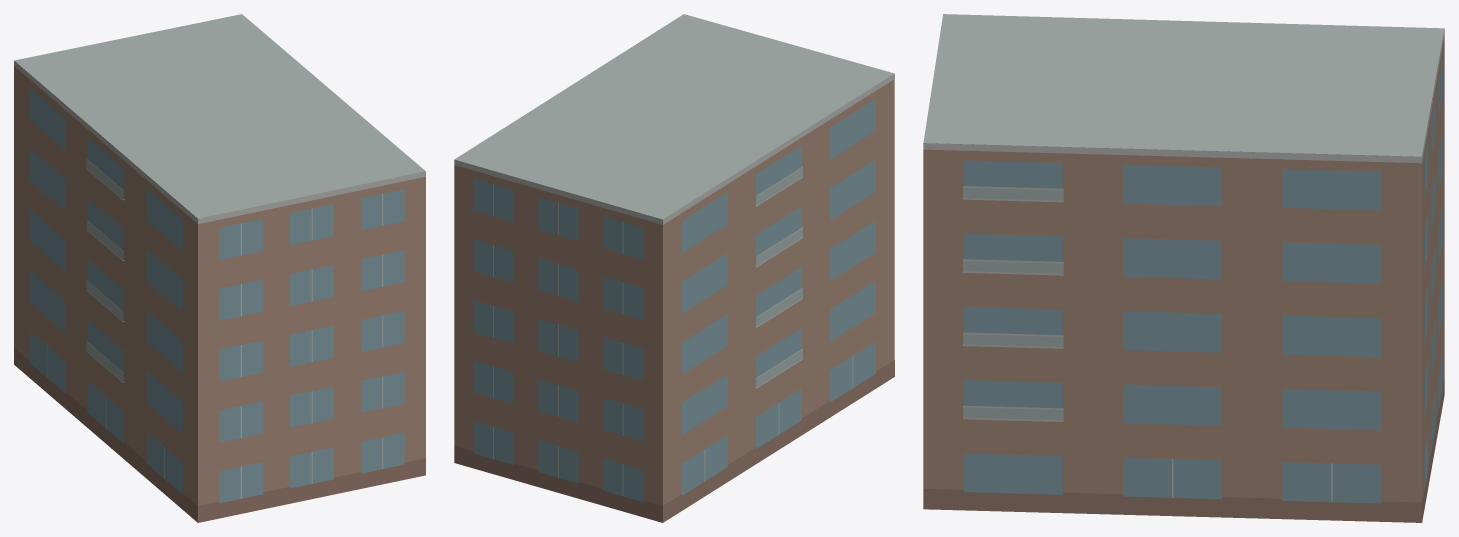
The model's file is survey-upis-32997127.glb.
The picture shows the model from 3 angles, left to right: view 1: azimuth 30°, elevation 25°; view 2: azimuth 150°, elevation 25°; view 3: azimuth 270°, elevation 25°; orthographic projection. The views are drawn at different scales.
Parts seen in each view (by area): view 1: survey-upis-32997127.tmp; view 2: survey-upis-32997127.tmp; view 3: survey-upis-32997127.tmp.
Part boxes in pixels (x1,y1,x2,y2): survey-upis-32997127.tmp: [14, 14, 425, 522]; survey-upis-32997127.tmp: [454, 14, 894, 522]; survey-upis-32997127.tmp: [923, 14, 1444, 522].
Size of the model in its own units: 11.42 by 13.65 by 17.62.
